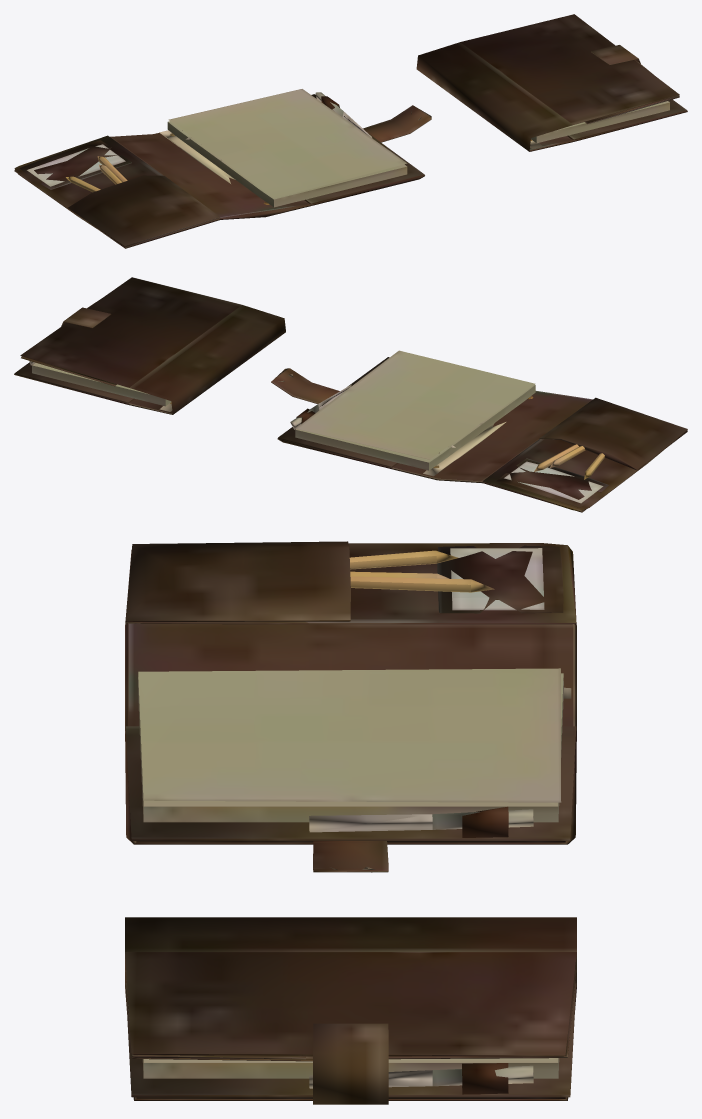
Rendered from relic-codex-notebook.glb.
3 views of the same model, one above another, from view 1: azimuth 30°, elevation 25°; view 2: azimuth 150°, elevation 25°; view 3: azimuth 270°, elevation 25° (orthographic). The views are drawn at different scales.
Parts seen in each view (by area): view 1: binder_notebook; view 2: binder_notebook; view 3: binder_notebook.
Boxes of the visible parts, x1=… form: binder_notebook: x1=14, y1=14, x2=687, y2=248; binder_notebook: x1=14, y1=277, x2=687, y2=512; binder_notebook: x1=125, y1=541, x2=576, y2=1104.
Size of the model in its own units: 0.5817 by 0.023 by 0.1991.
Materials: 1 (1 with a texture image).
